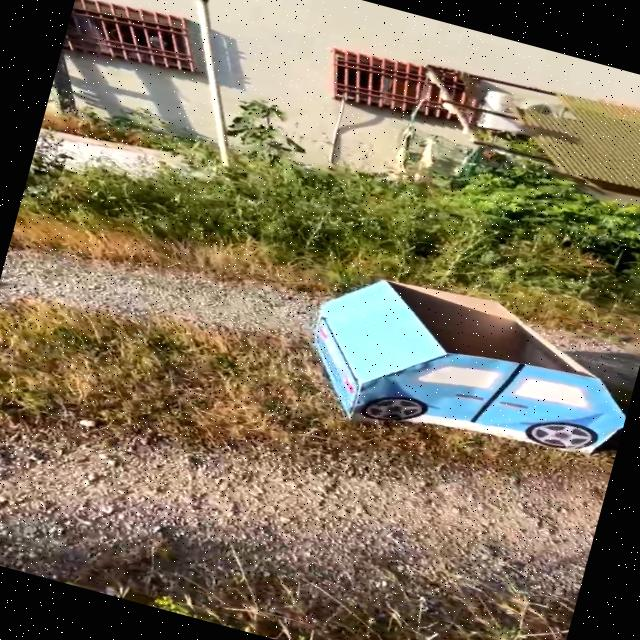blue_car: (243, 202, 640, 508)
